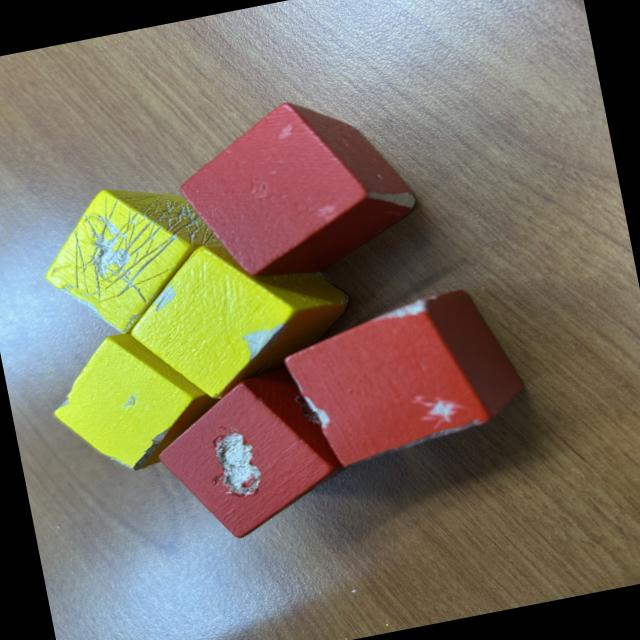broken: (168, 82, 428, 296), (276, 280, 534, 477), (116, 218, 365, 414), (144, 356, 359, 552), (30, 168, 236, 349), (38, 316, 233, 485)
